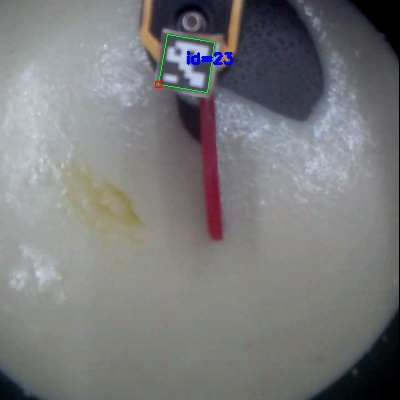stirrer: (127, 1, 243, 104)
